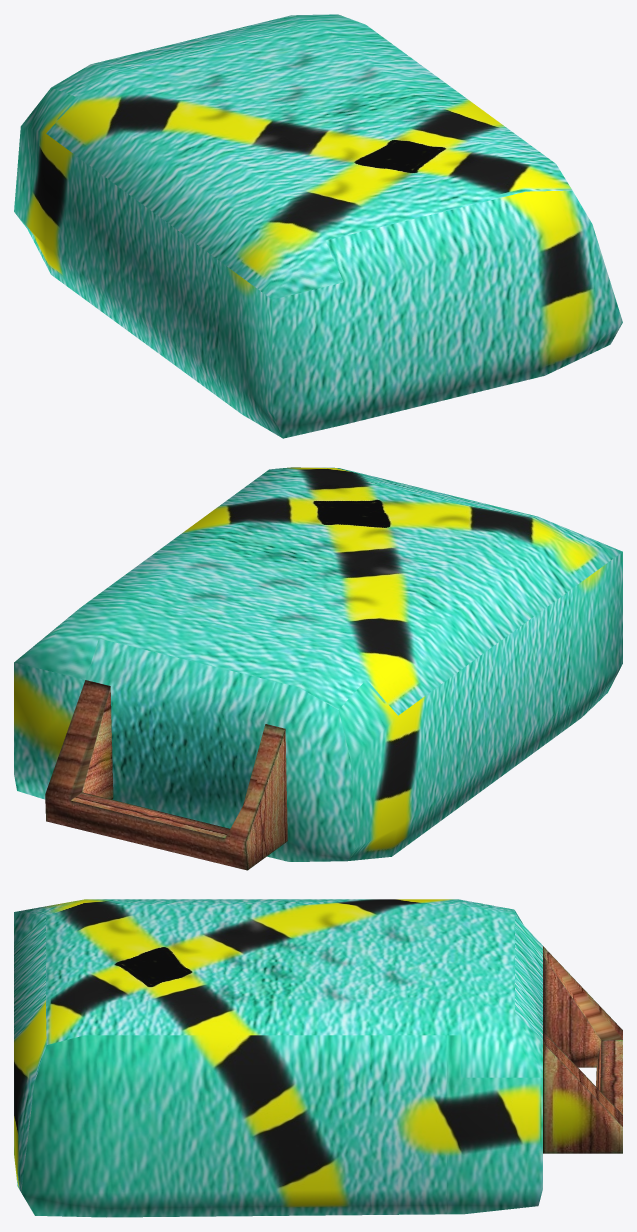
Rendered from SuitCaseBlue.FBX.
The picture shows the model from 3 angles, top to bottom: view 1: azimuth 30°, elevation 25°; view 2: azimuth 150°, elevation 25°; view 3: azimuth 270°, elevation 25°; orthographic projection.
Visible parts, largest first — view 1: Box002; view 2: Box002; view 3: Box002.
Boxes of the visible parts, left/top/right/bottom form: Box002: left=14, top=14, right=622, bottom=438; Box002: left=14, top=467, right=622, bottom=870; Box002: left=14, top=899, right=622, bottom=1217.
Bounding box in the file's own units: 17.32 × 26.13 × 9.21.
